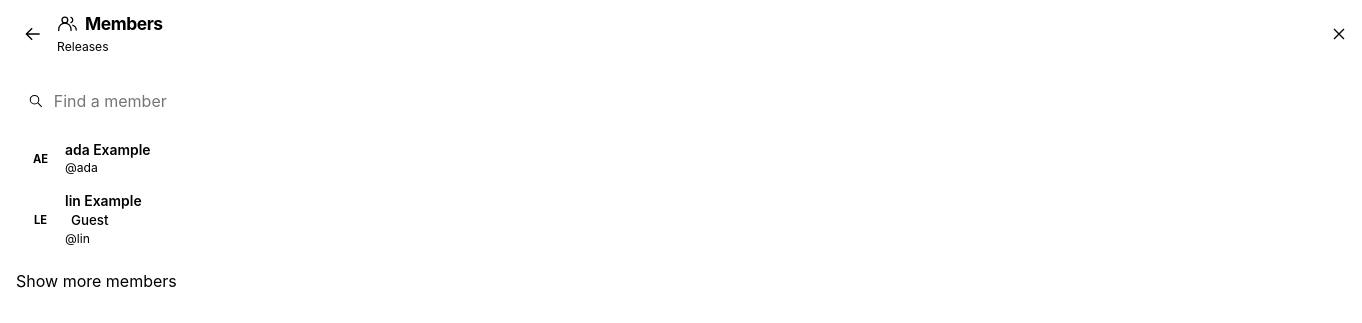
Scenario: keeps focus in the list when the last page contains only existing members
Click the button "Show more members".
click(96, 280)  # box [16, 255, 177, 306]
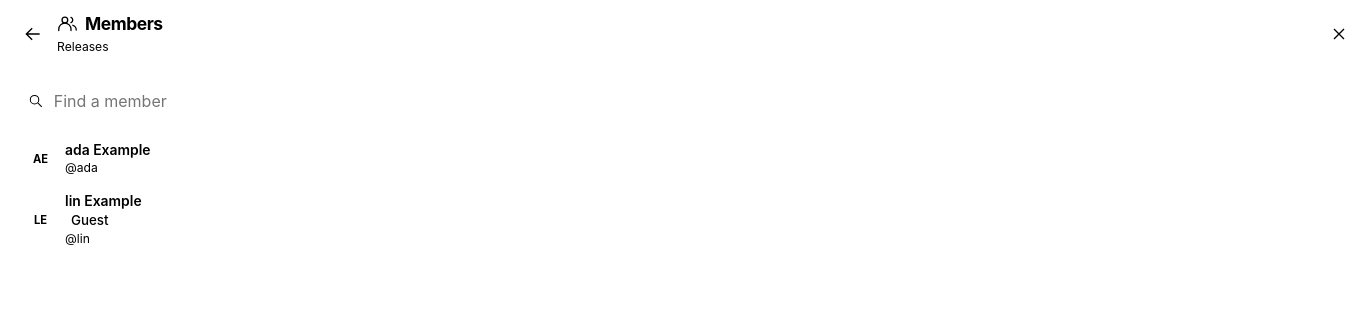
Check: the button "Show more members" is gone
